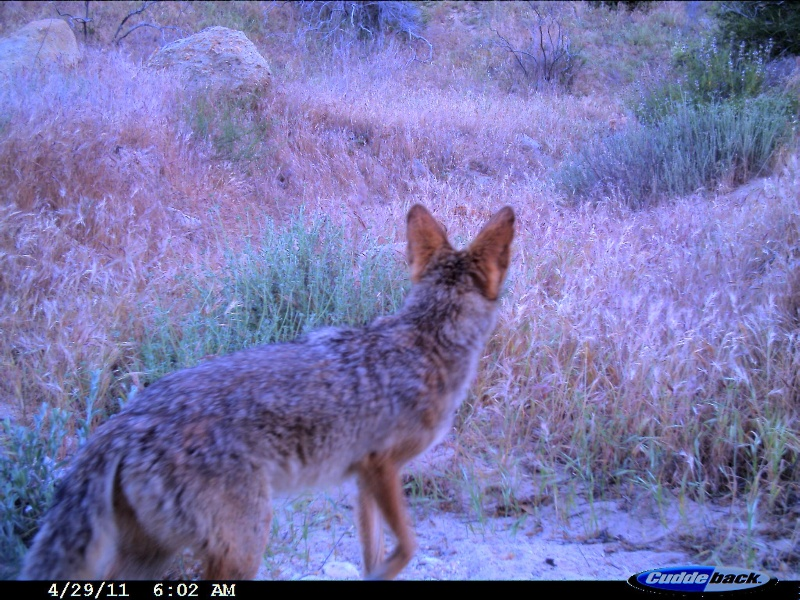coyote: (14, 199, 520, 580)
